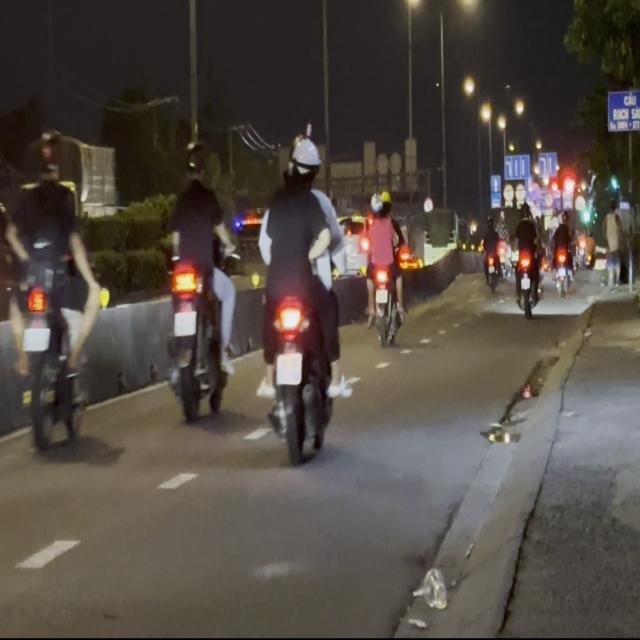helmet: (287, 135, 320, 191), (35, 130, 63, 183), (183, 140, 206, 188)
licenseplate: (5, 124, 115, 452), (253, 130, 344, 461), (164, 133, 236, 422)
nohelmet: (276, 352, 302, 383), (22, 328, 50, 352), (173, 310, 195, 335)
